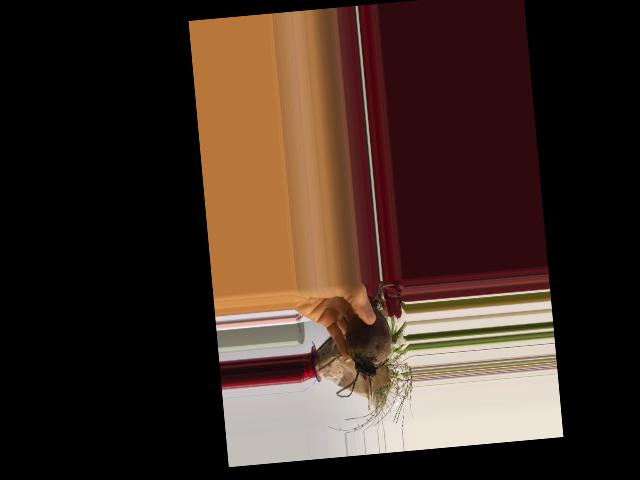beet: (327, 284, 403, 398)
